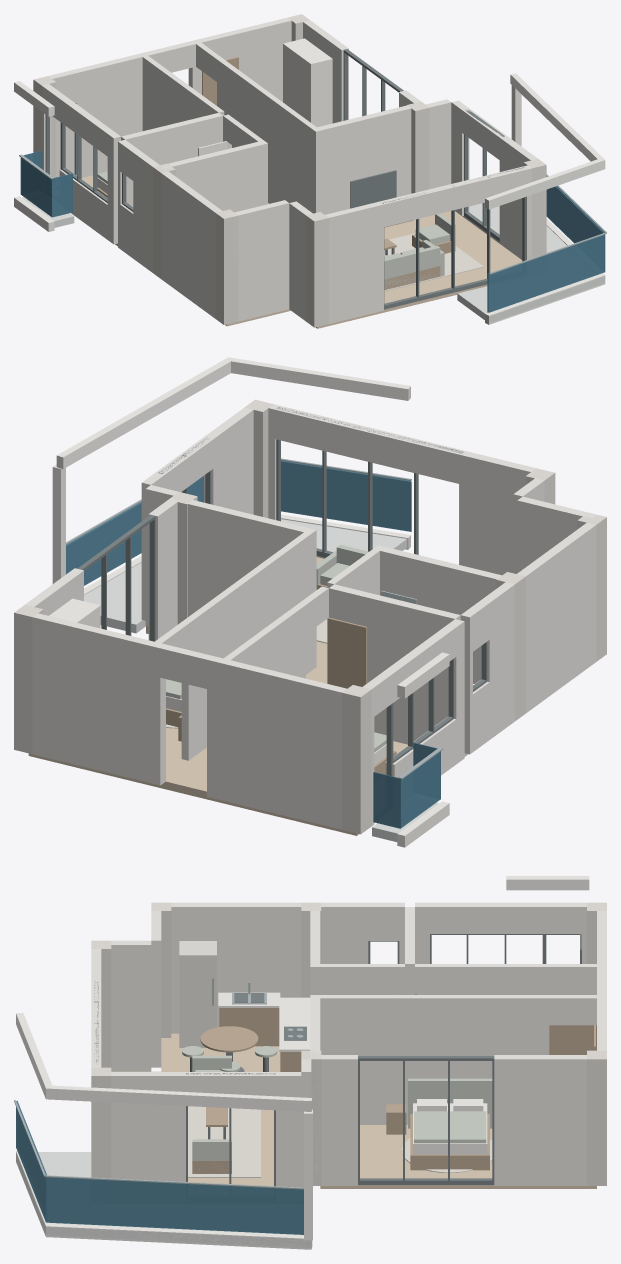
Rendered from apartment.glb.
3 views of the same model, one above another, from view 1: azimuth 30°, elevation 25°; view 2: azimuth 150°, elevation 25°; view 3: azimuth 270°, elevation 25° (orthographic). The views are drawn at different scales.
Parts seen in each view (by area): view 1: Bedroom 2 west wall, Bedroom 2 south wall, North exterior west, Terrace glass (×2), West exterior south, South exterior west, South-west wall, Bathroom south wall, North exterior east, Wardrobe 2, Living panorama lintel, Bedroom 1 south wall (+42 smaller); view 2: North exterior west, North exterior east, West exterior south, Bedroom 2 west wall, Terrace glass (×2), Bedroom 1 south wall, Bedroom 2 south wall, South exterior west, Living panorama lintel, Terrace soffit (×2), Bathroom south wall, NW Column (+38 smaller); view 3: Bedroom 2 west wall, Terrace glass (×2), East exterior bedroom north, West exterior south, East exterior living south, South-west return, Terrace soffit (×2), West bedroom opening lintel, East exterior bedroom south, Bedroom 1 east wall, Bedroom 2 floor, Refrigerator (+47 smaller).
Boxes of the visible parts, bbox=[...] form: Bedroom 2 west wall: bbox=[217, 58, 321, 213]; Bedroom 2 south wall: bbox=[317, 104, 411, 214]; North exterior west: bbox=[48, 50, 156, 177]; Terrace glass (×2): bbox=[487, 186, 605, 312]; West exterior south: bbox=[161, 171, 222, 318]; South exterior west: bbox=[325, 201, 383, 323]; South-west wall: bbox=[228, 200, 289, 322]; Bathroom south wall: bbox=[162, 141, 262, 212]; North exterior east: bbox=[188, 17, 291, 101]; Wardrobe 2: bbox=[283, 38, 332, 127]; Living panorama lintel: bbox=[380, 166, 526, 226]; Bedroom 1 south wall: bbox=[121, 112, 222, 206]; North exterior west: bbox=[207, 655, 346, 829]; North exterior east: bbox=[32, 613, 165, 785]; West exterior south: bbox=[517, 523, 596, 712]; Bedroom 2 west wall: bbox=[181, 528, 316, 760]; Terrace glass (×2): bbox=[66, 460, 411, 585]; Bedroom 1 south wall: bbox=[329, 584, 460, 744]; Bedroom 2 south wall: bbox=[169, 497, 308, 616]; South exterior west: bbox=[460, 451, 535, 575]; Living panorama lintel: bbox=[275, 406, 464, 483]; Terrace soffit (×2): bbox=[56, 357, 410, 468]; Bathroom south wall: bbox=[380, 547, 510, 683]; NW Column: bbox=[342, 685, 371, 834]; Bedroom 2 west wall: bbox=[310, 995, 546, 1124]; Terrace glass (×2): bbox=[16, 1100, 303, 1234]; East exterior bedroom north: bbox=[494, 1055, 586, 1185]; West exterior south: bbox=[171, 902, 301, 1033]; East exterior living south: bbox=[111, 1072, 185, 1181]; South-west return: bbox=[111, 940, 151, 1071]; Terrace soffit (×2): bbox=[16, 1012, 312, 1111]; West bedroom opening lintel: bbox=[430, 902, 581, 933]; East exterior bedroom south: bbox=[321, 1055, 357, 1185]; Bedroom 1 east wall: bbox=[457, 964, 596, 1054]; Bedroom 2 floor: bbox=[320, 1125, 596, 1188]; Refrigerator: bbox=[179, 941, 216, 1047].
Size of the model in its own units: 10.72 by 3.28 by 11.86.
